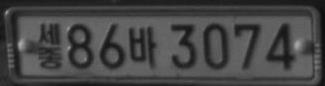0: (202, 22, 229, 69)
3: (170, 23, 196, 70)
4: (265, 23, 295, 69)
6: (98, 22, 125, 69)
7: (233, 23, 261, 71)
8: (65, 23, 94, 69)
바: (128, 25, 157, 68)
세종_V: (37, 23, 63, 70)
